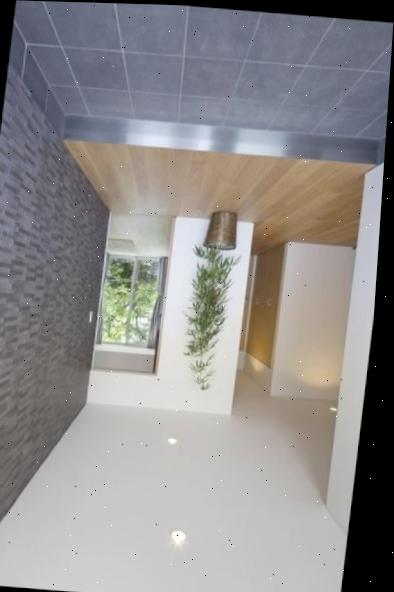floor: (13, 0, 393, 139)
safe: (61, 138, 377, 256)
